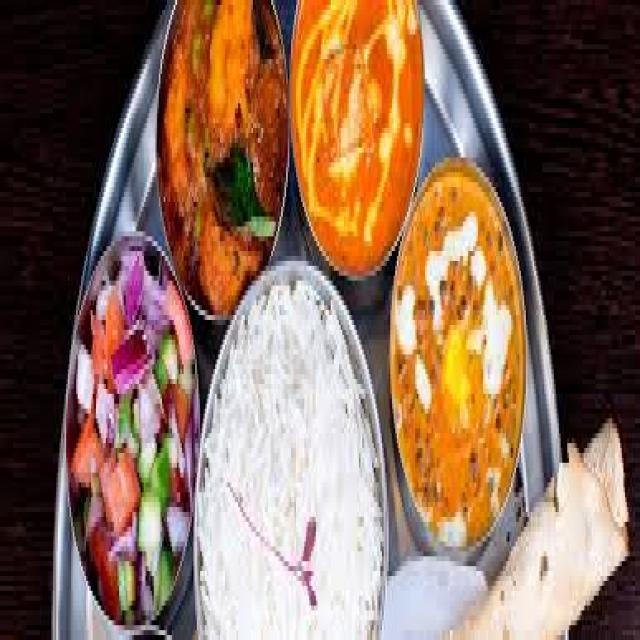papad: (483, 426, 639, 640)
rice: (194, 279, 388, 624)
roti: (485, 435, 639, 630)
veg-fry: (391, 148, 529, 572), (152, 0, 295, 320), (289, 0, 427, 294)
